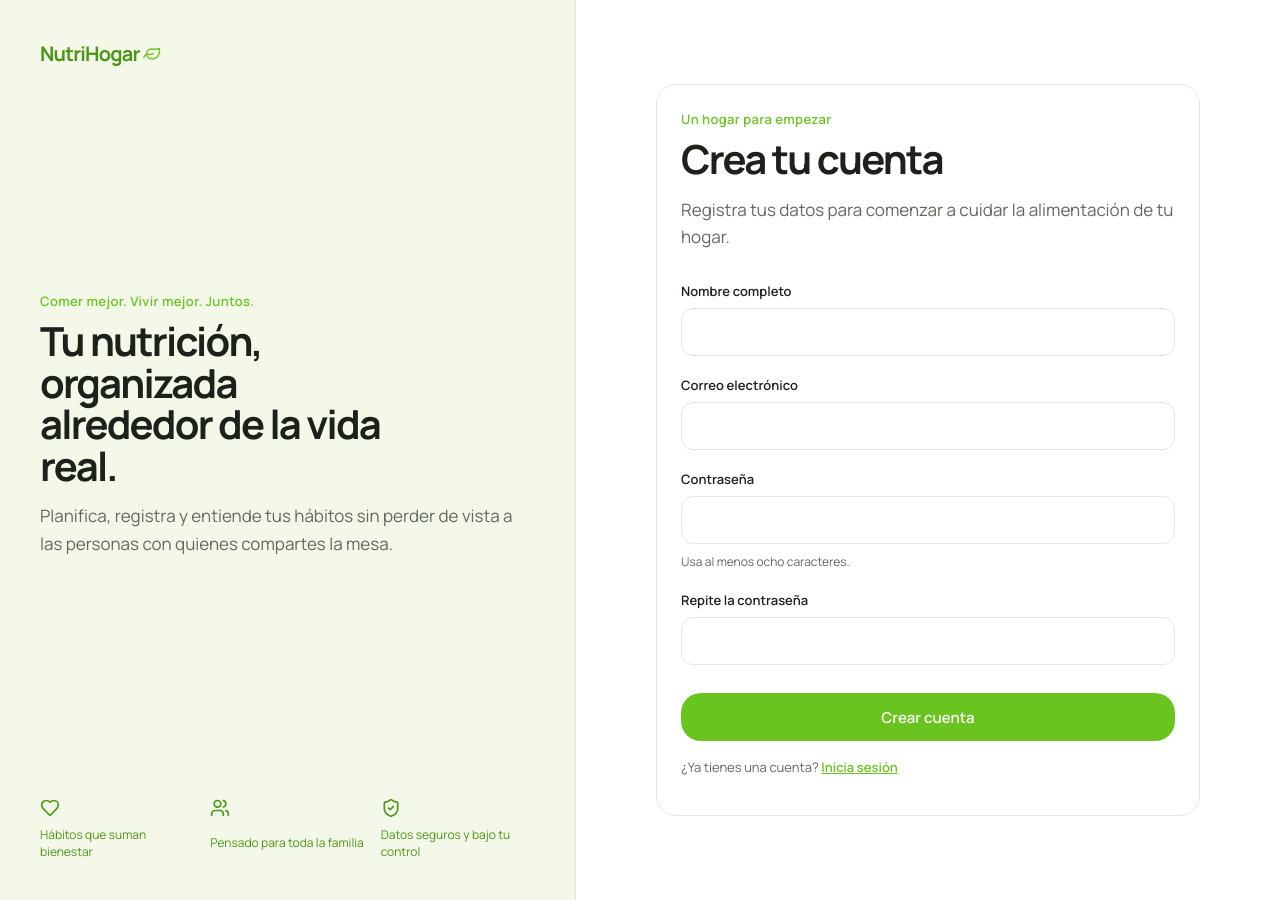
Scenario: RegisterPage › shows validation when passwords do not match
Type "Alejandro Sojo" into the field labelled "Nombre completo" at (928, 332), box left=681, top=308, right=1175, bottom=356
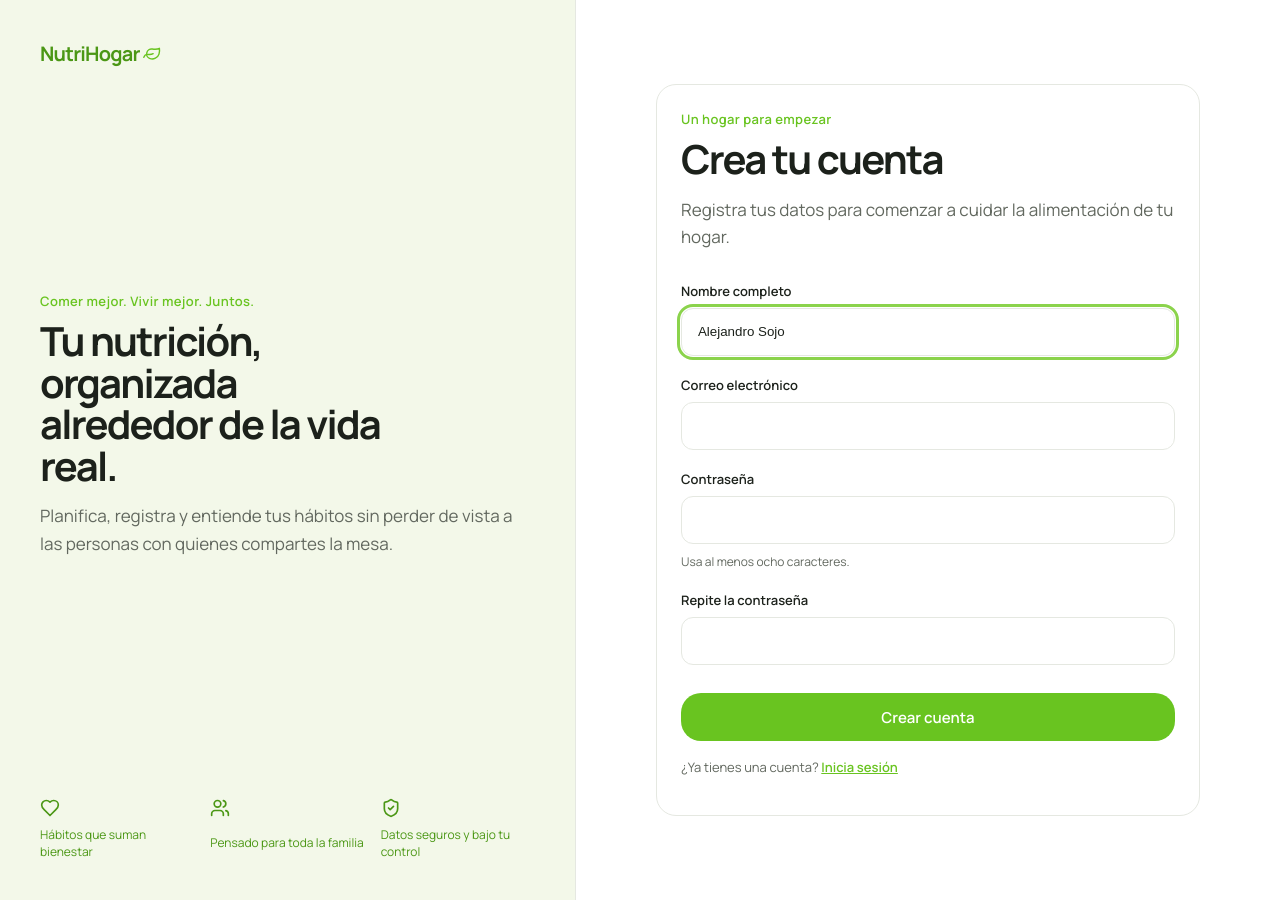
Type "adult@example.com" into the field labelled "Correo electrónico" at (928, 426), box left=681, top=402, right=1175, bottom=450
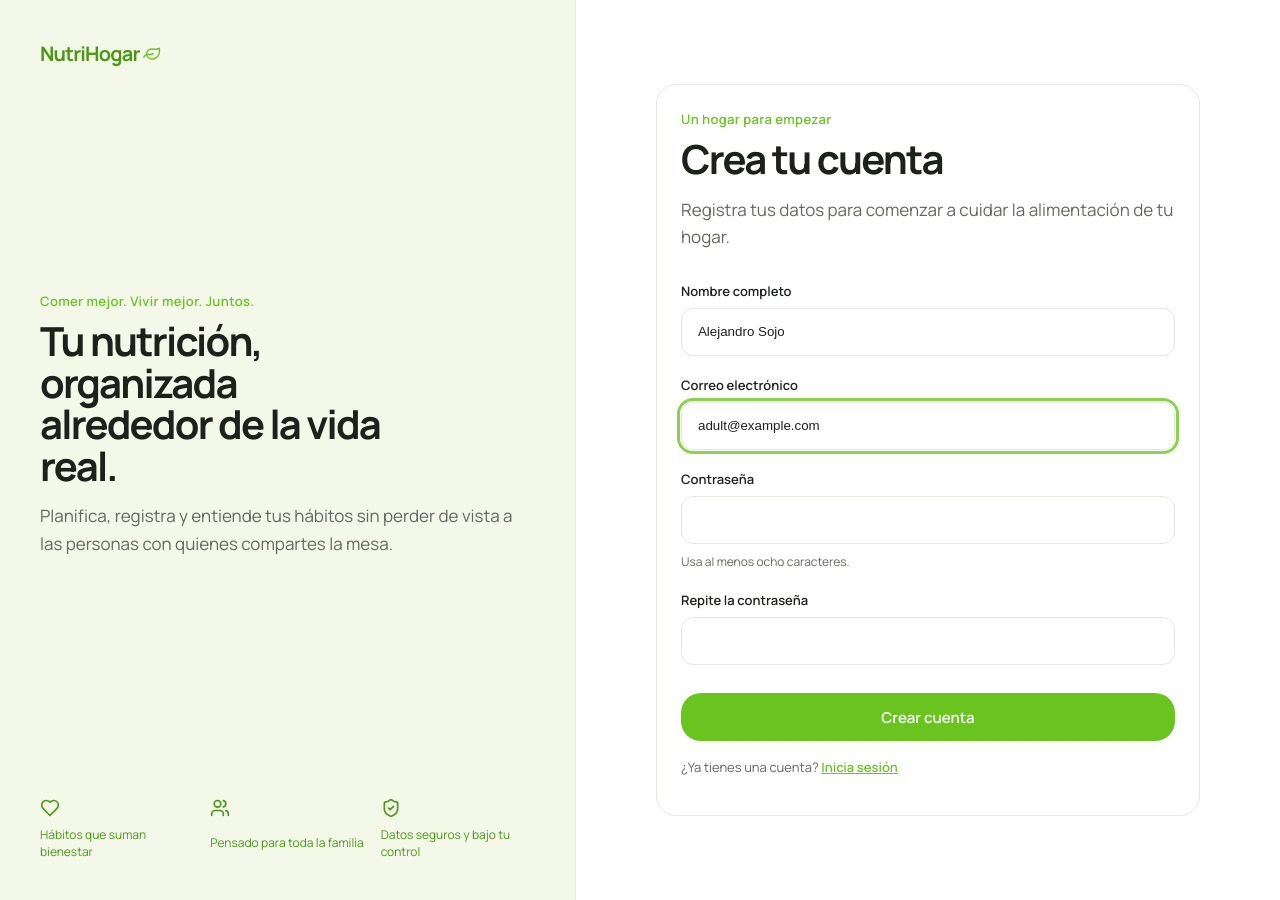
Type "secret-password" into the password field labelled "Contraseña" at (928, 520), box left=681, top=496, right=1175, bottom=544
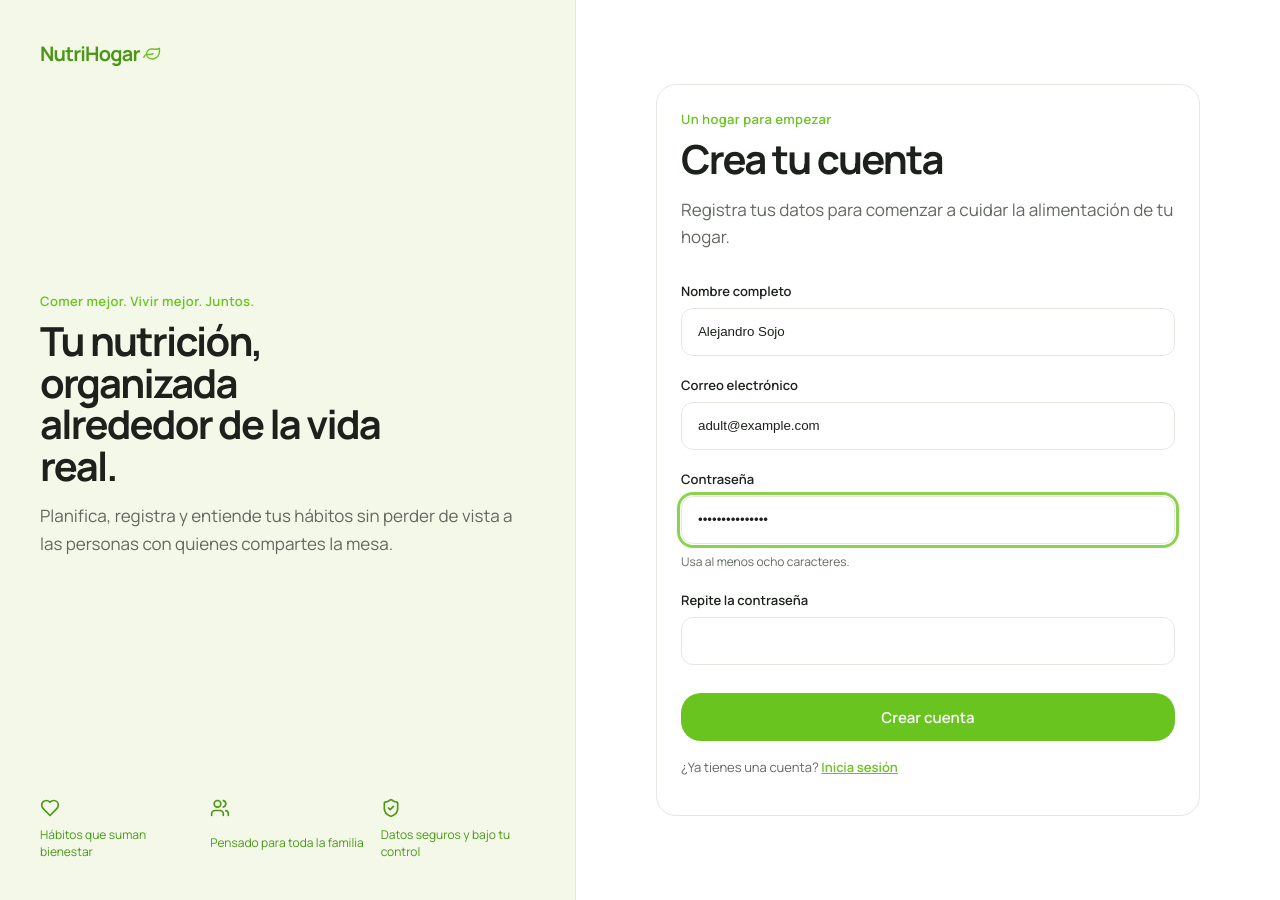
Type "different-password" into the password field labelled "Repite la contraseña" at (928, 641), box left=681, top=617, right=1175, bottom=665
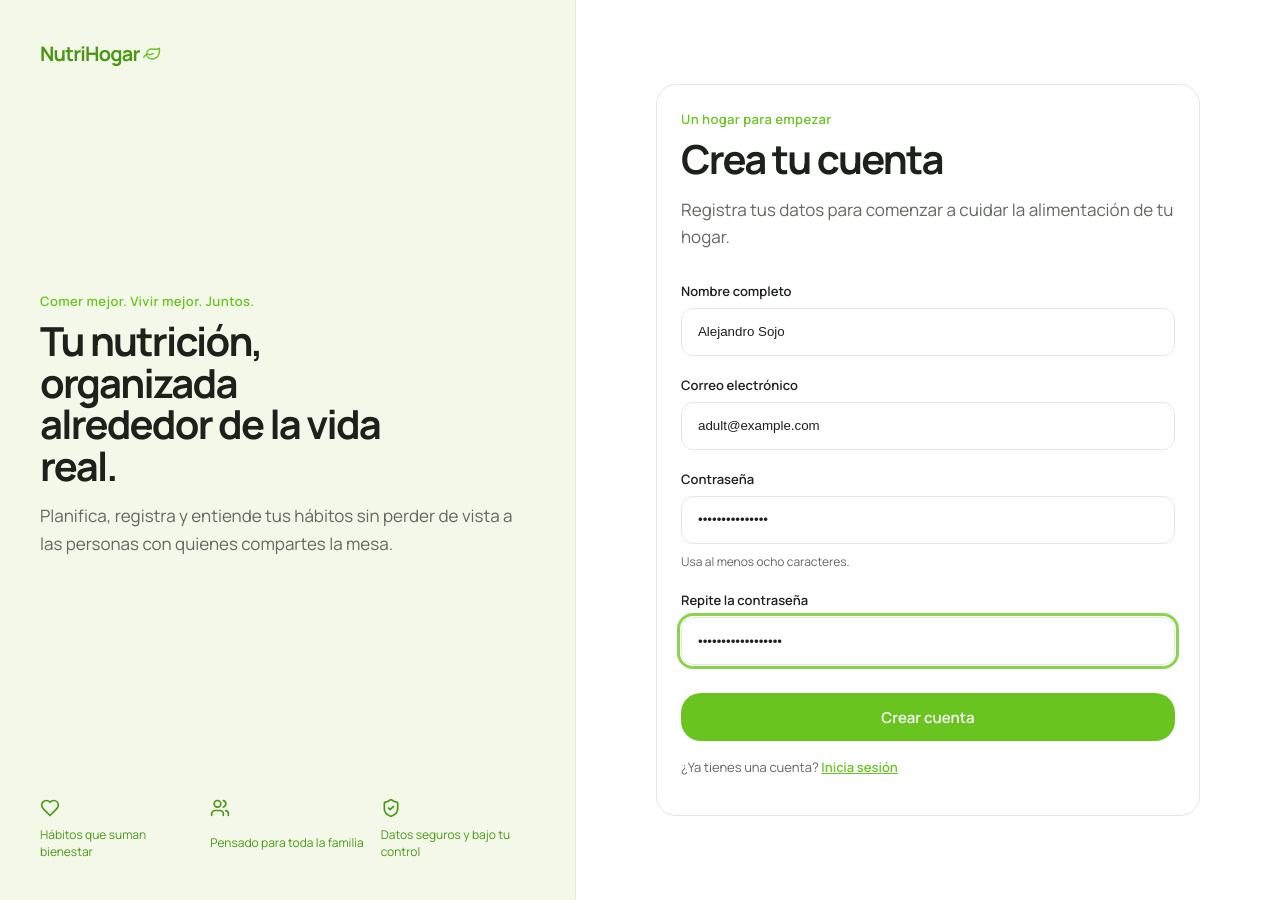
Click the button "Crear cuenta" at (928, 717), box left=681, top=693, right=1175, bottom=741
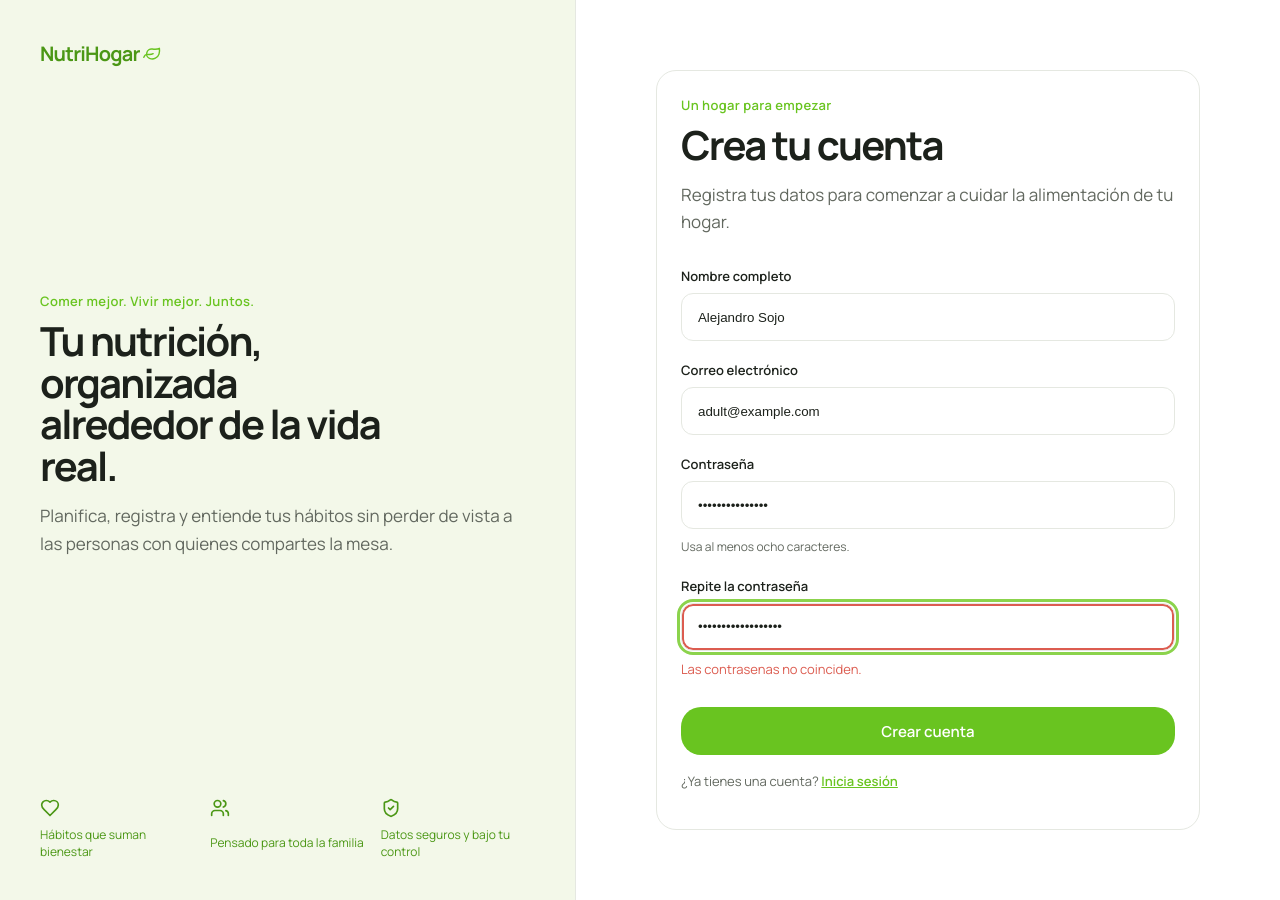
Check: the text "Las contrasenas no coinciden." is shown, box left=681, top=660, right=862, bottom=678
